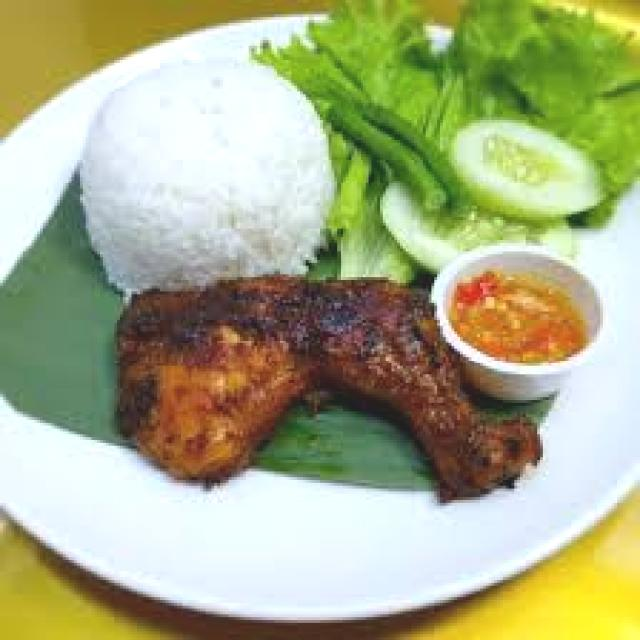ayam bakar: (114, 274, 540, 506)
nasi: (80, 60, 337, 297)
